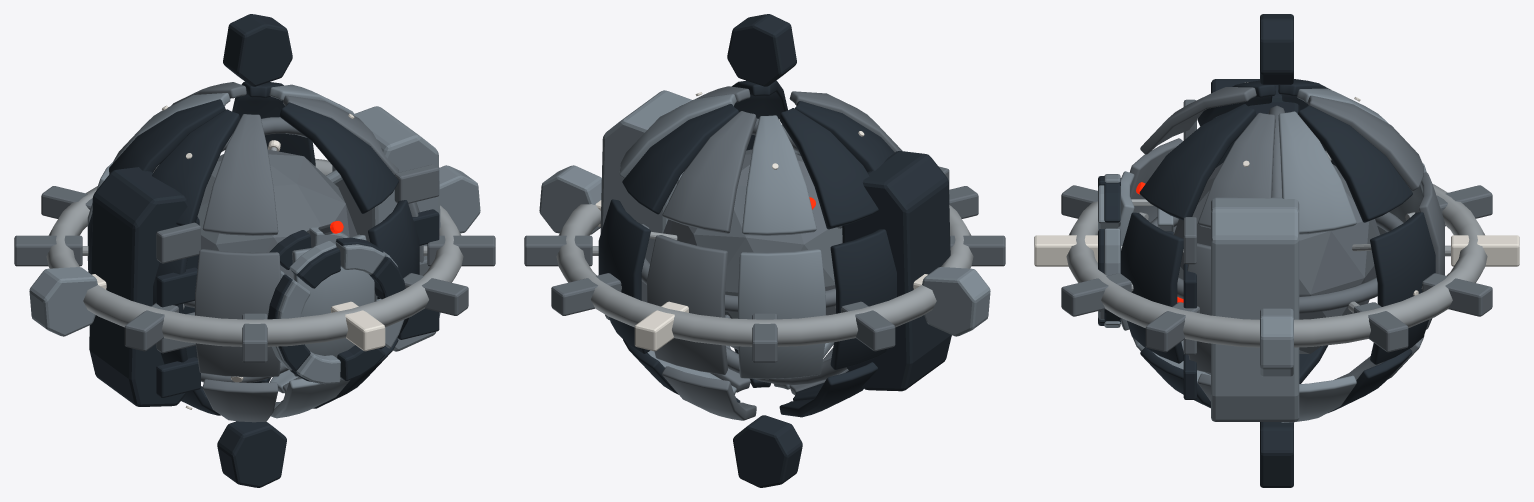
Rendered from orbit-deploy-balanced.glb.
The picture shows the model from 3 angles, left to right: view 1: azimuth 30°, elevation 25°; view 2: azimuth 150°, elevation 25°; view 3: azimuth 270°, elevation 25°; orthographic projection.
Visible parts, largest first — view 1: Deploy_MID_RackCliff_00, Deploy_MID_Dock, Deploy_MID_ArmourTile_01_01, Deploy_MID_Core, Deploy_MID_ArmourTile_00_01, Deploy_MID_ArmourTile_00_03, Deploy_MID_RackCliff_01, Deploy_MID_ArmourTile_00_00, Deploy_MID_LaunchPylon_01, Deploy_MID_LaunchPylon_03, Deploy_MID_LaunchPylon_02, Deploy_MID_ArmourTile_01_02 (+36 smaller); view 2: Deploy_MID_RackCliff_00, Deploy_MID_Dock, Deploy_MID_ArmourTile_01_08, Deploy_MID_ArmourTile_01_07, Deploy_MID_ArmourTile_00_08, Deploy_MID_ArmourTile_00_07, Deploy_MID_Core, Deploy_MID_ArmourTile_00_09, Deploy_MID_ArmourTile_01_09, Deploy_MID_ArmourTile_00_06, Deploy_MID_RackCliff_01, Deploy_MID_LaunchPylon_01 (+20 smaller); view 3: Deploy_MID_RackCliff_01, Deploy_MID_Dock, Deploy_MID_Core, Deploy_MID_ArmourTile_00_05, Deploy_MID_ArmourTile_00_03, Deploy_MID_ArmourTile_00_06, Deploy_MID_ArmourTile_01_06, Deploy_MID_ArmourTile_01_03, Deploy_MID_ArmourTile_00_04, Deploy_MID_ArmourTile_00_07, Deploy_MID_LaunchPylon_01, Deploy_MID_LaunchPylon_00 (+30 smaller).
Part boxes in pixels (x1=…): Deploy_MID_RackCliff_00: x1=89, y1=167, x2=199, y2=406; Deploy_MID_Dock: x1=46, y1=158, x2=463, y2=346; Deploy_MID_ArmourTile_01_01: x1=195, y1=249, x2=280, y2=377; Deploy_MID_Core: x1=197, y1=149, x2=357, y2=279; Deploy_MID_ArmourTile_00_01: x1=202, y1=114, x2=278, y2=235; Deploy_MID_ArmourTile_00_03: x1=279, y1=102, x2=398, y2=213; Deploy_MID_RackCliff_01: x1=332, y1=106, x2=440, y2=351; Deploy_MID_ArmourTile_00_00: x1=152, y1=109, x2=240, y2=225; Deploy_MID_LaunchPylon_01: x1=223, y1=14, x2=292, y2=86; Deploy_MID_LaunchPylon_03: x1=217, y1=421, x2=286, y2=487; Deploy_MID_LaunchPylon_02: x1=29, y1=267, x2=97, y2=336; Deploy_MID_ArmourTile_01_02: x1=292, y1=234, x2=374, y2=376; Deploy_MID_RackCliff_00: x1=842, y1=151, x2=951, y2=391; Deploy_MID_Dock: x1=556, y1=204, x2=973, y2=346; Deploy_MID_ArmourTile_01_08: x1=738, y1=248, x2=825, y2=379; Deploy_MID_ArmourTile_01_07: x1=647, y1=235, x2=727, y2=374; Deploy_MID_ArmourTile_00_08: x1=742, y1=115, x2=816, y2=235; Deploy_MID_ArmourTile_00_07: x1=662, y1=111, x2=756, y2=233; Deploy_MID_Core: x1=663, y1=149, x2=842, y2=349; Deploy_MID_ArmourTile_00_09: x1=779, y1=108, x2=878, y2=229; Deploy_MID_ArmourTile_01_09: x1=830, y1=229, x2=896, y2=369; Deploy_MID_ArmourTile_00_06: x1=622, y1=104, x2=738, y2=214; Deploy_MID_RackCliff_01: x1=600, y1=90, x2=692, y2=320; Deploy_MID_LaunchPylon_01: x1=727, y1=14, x2=796, y2=86; Deploy_MID_RackCliff_01: x1=1211, y1=197, x2=1299, y2=421; Deploy_MID_Dock: x1=1066, y1=184, x2=1487, y2=347; Deploy_MID_Core: x1=1174, y1=163, x2=1379, y2=353; Deploy_MID_ArmourTile_00_05: x1=1278, y1=111, x2=1356, y2=234; Deploy_MID_ArmourTile_00_03: x1=1139, y1=104, x2=1256, y2=220; Deploy_MID_ArmourTile_00_06: x1=1298, y1=105, x2=1412, y2=222; Deploy_MID_ArmourTile_01_06: x1=1370, y1=212, x2=1435, y2=364; Deploy_MID_ArmourTile_01_03: x1=1121, y1=212, x2=1183, y2=363; Deploy_MID_ArmourTile_00_04: x1=1198, y1=112, x2=1275, y2=228; Deploy_MID_ArmourTile_00_07: x1=1307, y1=95, x2=1423, y2=191; Deploy_MID_LaunchPylon_01: x1=1260, y1=14, x2=1293, y2=84; Deploy_MID_LaunchPylon_00: x1=1260, y1=308, x2=1293, y2=376.
Size of the model in its own units: 10.71 by 10.82 by 10.21.
